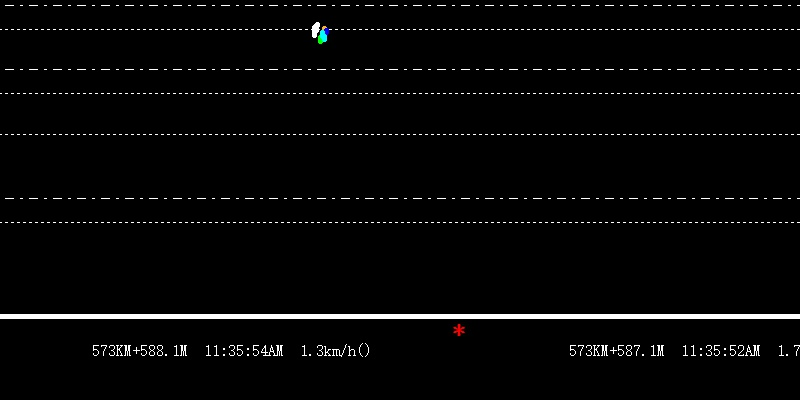face_2: (310, 19, 329, 44)
star: (453, 321, 465, 338)
